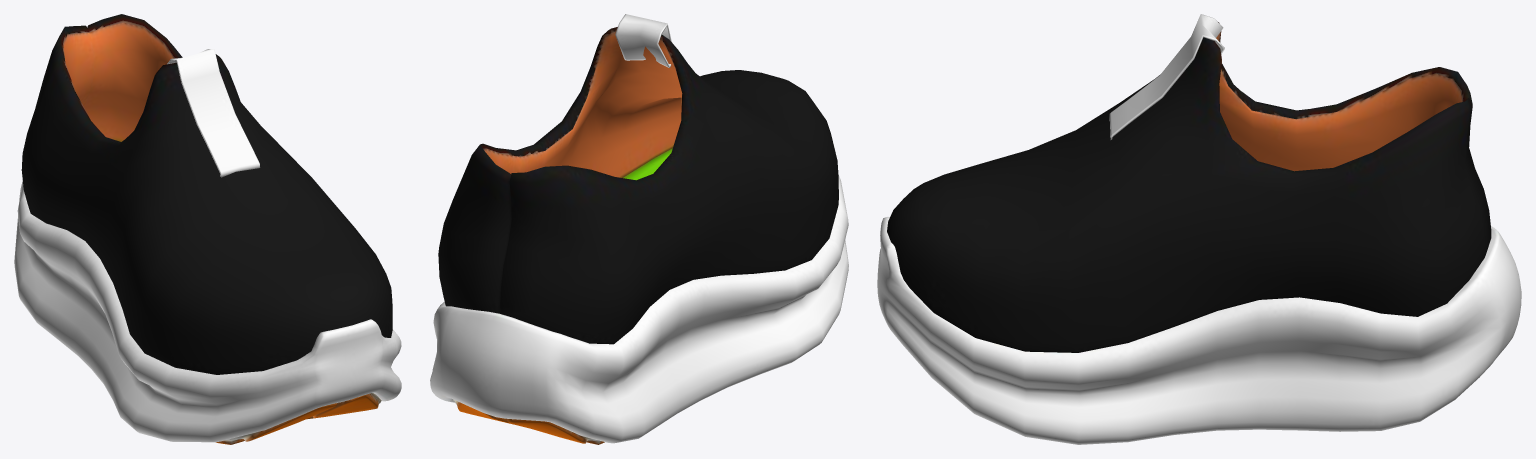
The model's file is slip_on_shoes.glb.
3 views of the same model, side by side, from view 1: azimuth 30°, elevation 25°; view 2: azimuth 150°, elevation 25°; view 3: azimuth 270°, elevation 25° (orthographic). The views are drawn at different scales.
Parts seen in each view (by area): view 1: shoes_r; view 2: shoes_r; view 3: shoes_r.
Boxes of the visible parts, bbox=[...] form: shoes_r: bbox=[14, 14, 401, 444]; shoes_r: bbox=[430, 14, 848, 444]; shoes_r: bbox=[877, 14, 1521, 444].
Bounding box in the file's own units: 13.25 × 17.52 × 28.16.
1 material, 1 textured.
